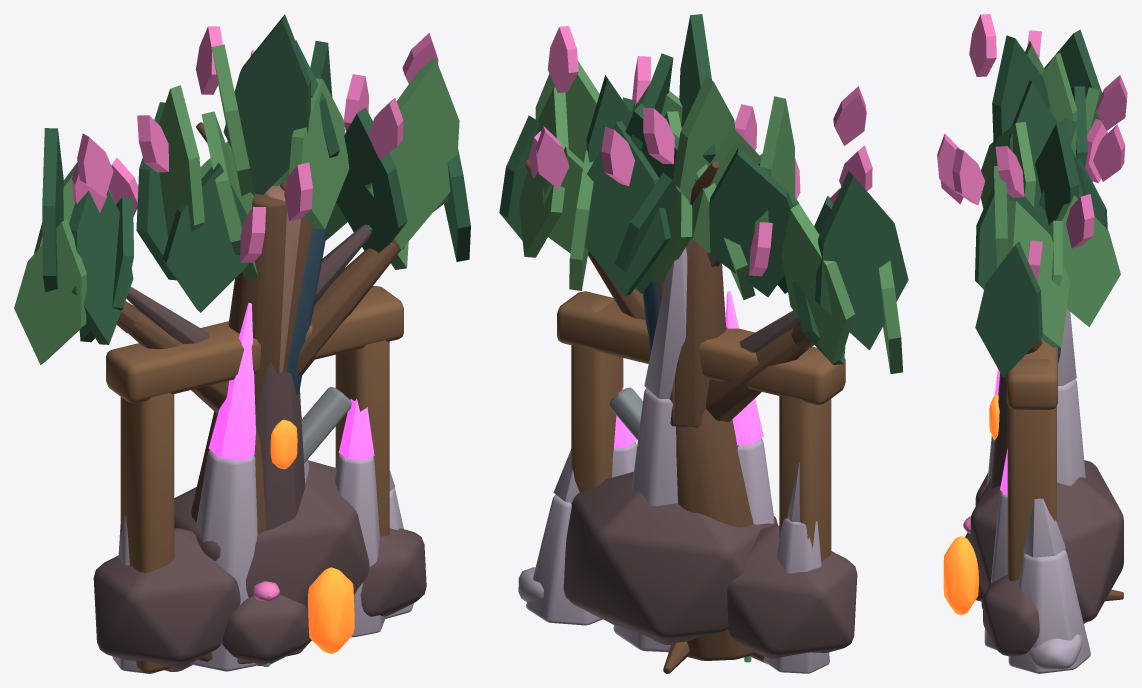
File: kaki-rally-environment-kit-v2.glb
3 renders of one model, left to right at view 1: azimuth 30°, elevation 25°; view 2: azimuth 150°, elevation 25°; view 3: azimuth 270°, elevation 25°, orthographic. The views are drawn at different scales.
Visible parts, largest first — view 1: forest_tree_gnarled_a, cinder_basalt_cluster, cave_timber_brace, void_bone_spires, kakiland_blossom_tree, cinder_dead_tree, forest_tree_gnarled_b, twilight_tree_lantern; view 2: forest_tree_gnarled_a, cinder_basalt_cluster, cave_timber_brace, void_bone_spires, kakiland_blossom_tree, forest_tree_gnarled_b, cinder_dead_tree, twilight_tree_lantern; view 3: forest_tree_gnarled_a, cinder_basalt_cluster, void_bone_spires, kakiland_blossom_tree, cave_timber_brace, cinder_dead_tree.
Part boxes in pixels (x1,y1,x2,y2): forest_tree_gnarled_a: (14, 14, 470, 664); cinder_basalt_cluster: (93, 460, 426, 671); cave_timber_brace: (106, 286, 403, 673); void_bone_spires: (112, 303, 413, 673); kakiland_blossom_tree: (71, 26, 438, 373); cinder_dead_tree: (126, 224, 371, 656); forest_tree_gnarled_b: (228, 194, 286, 414); twilight_tree_lantern: (286, 219, 329, 395); forest_tree_gnarled_a: (499, 14, 908, 673); cinder_basalt_cluster: (563, 471, 857, 658); cave_timber_brace: (557, 291, 845, 561); void_bone_spires: (518, 247, 829, 673); kakiland_blossom_tree: (529, 26, 872, 424); forest_tree_gnarled_b: (674, 240, 726, 427); cinder_dead_tree: (686, 238, 800, 385); twilight_tree_lantern: (643, 281, 674, 426); forest_tree_gnarled_a: (975, 29, 1123, 601); cinder_basalt_cluster: (943, 460, 1123, 656); void_bone_spires: (984, 309, 1090, 673); kakiland_blossom_tree: (937, 14, 1127, 281); cave_timber_brace: (1006, 338, 1057, 580); cinder_dead_tree: (981, 373, 1007, 608).
Size of the model in its own units: 4.58 by 6.59 by 1.92.
